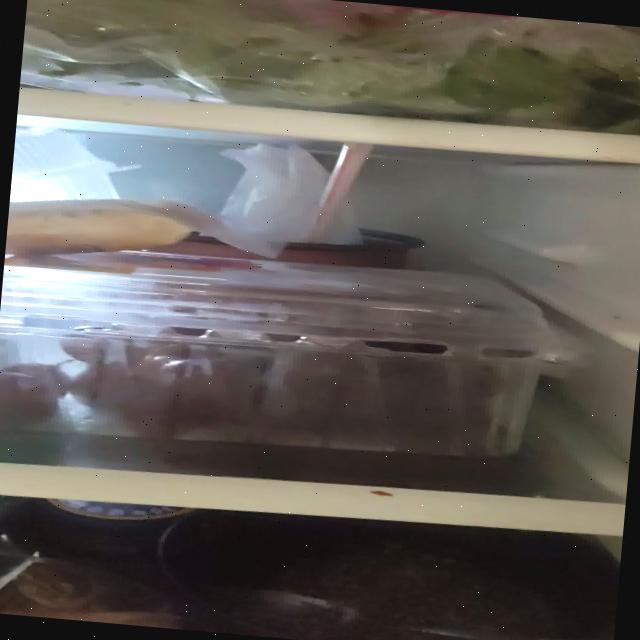grape: (0, 263, 519, 470)
